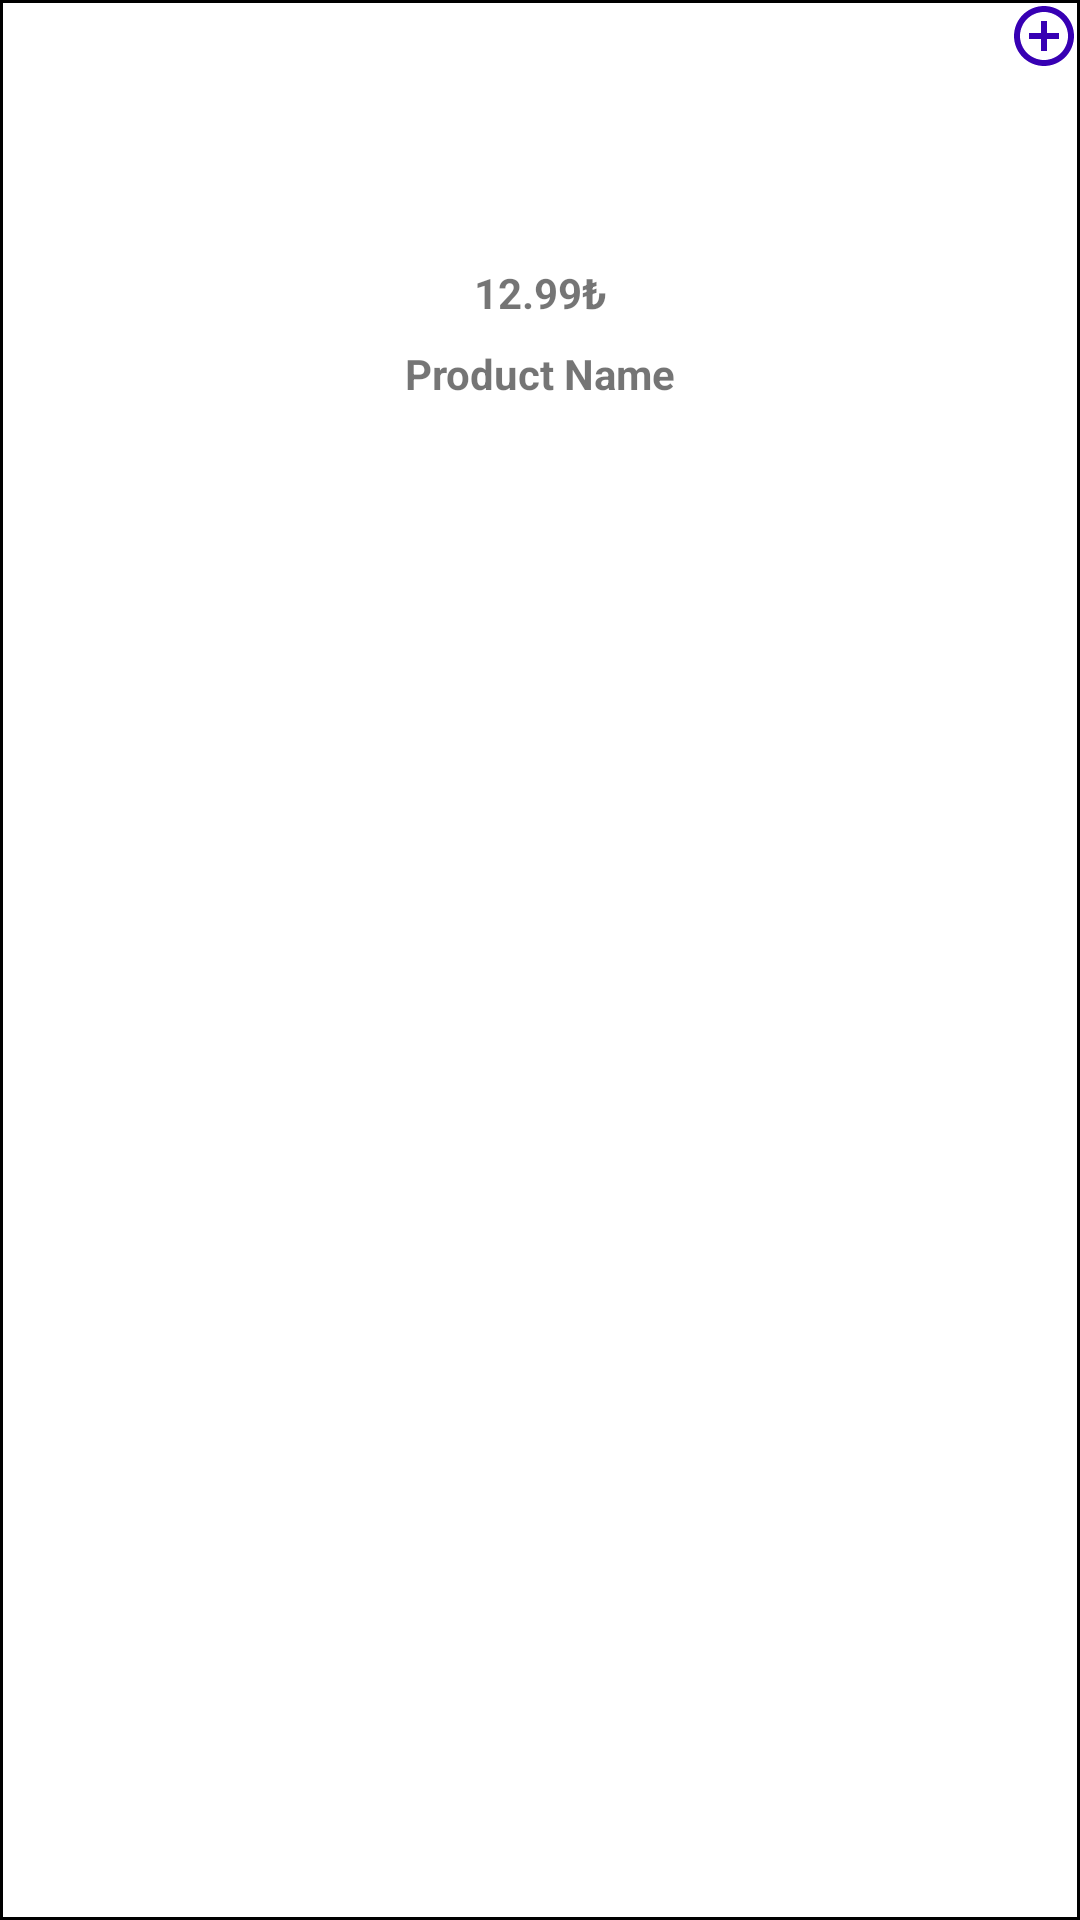

Icons on this 1080 x 1920 Android screen, each with the point to tap as (x,y):
add circle: (1044,36)
